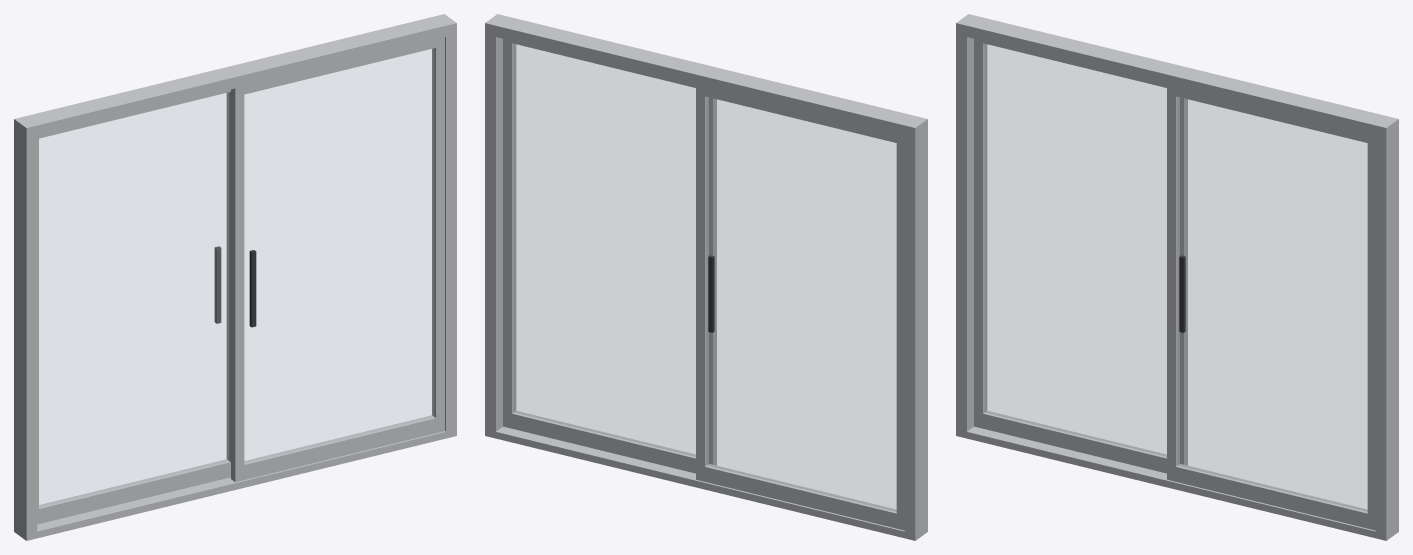
Rendered from mlo_door_patio_sliding.glb.
The picture shows the model from 3 angles, left to right: view 1: azimuth 30°, elevation 25°; view 2: azimuth 150°, elevation 25°; view 3: azimuth 330°, elevation 25°; orthographic projection.
Visible parts, largest first — view 1: Door_Patio_Sliding; view 2: Door_Patio_Sliding; view 3: Door_Patio_Sliding.
Part boxes in pixels (bbox=[...]): Door_Patio_Sliding: bbox=[14, 14, 456, 540]; Door_Patio_Sliding: bbox=[485, 14, 927, 540]; Door_Patio_Sliding: bbox=[956, 14, 1398, 540].
Bounding box in the file's own units: 2.4 × 2.2 × 0.14.
